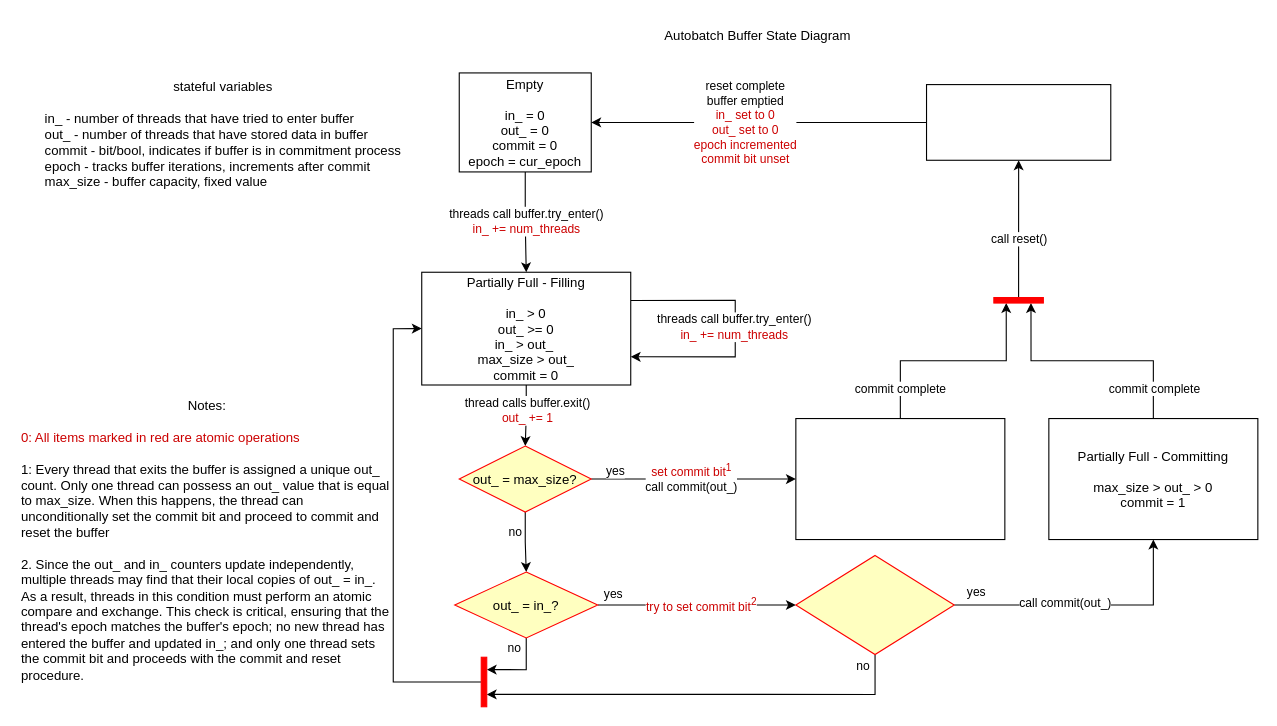
Some shapes in this 1277 by 726 pixel diagram are drawn without their labels. The centre of each missing label's shape, as x and y in pixels:
Committed - Resetting Buffer commit = 1: point (1018, 121)
compare_exchange successful?: point (874, 604)
Full - Committing max_size = out_ commit = 1: point (900, 478)
